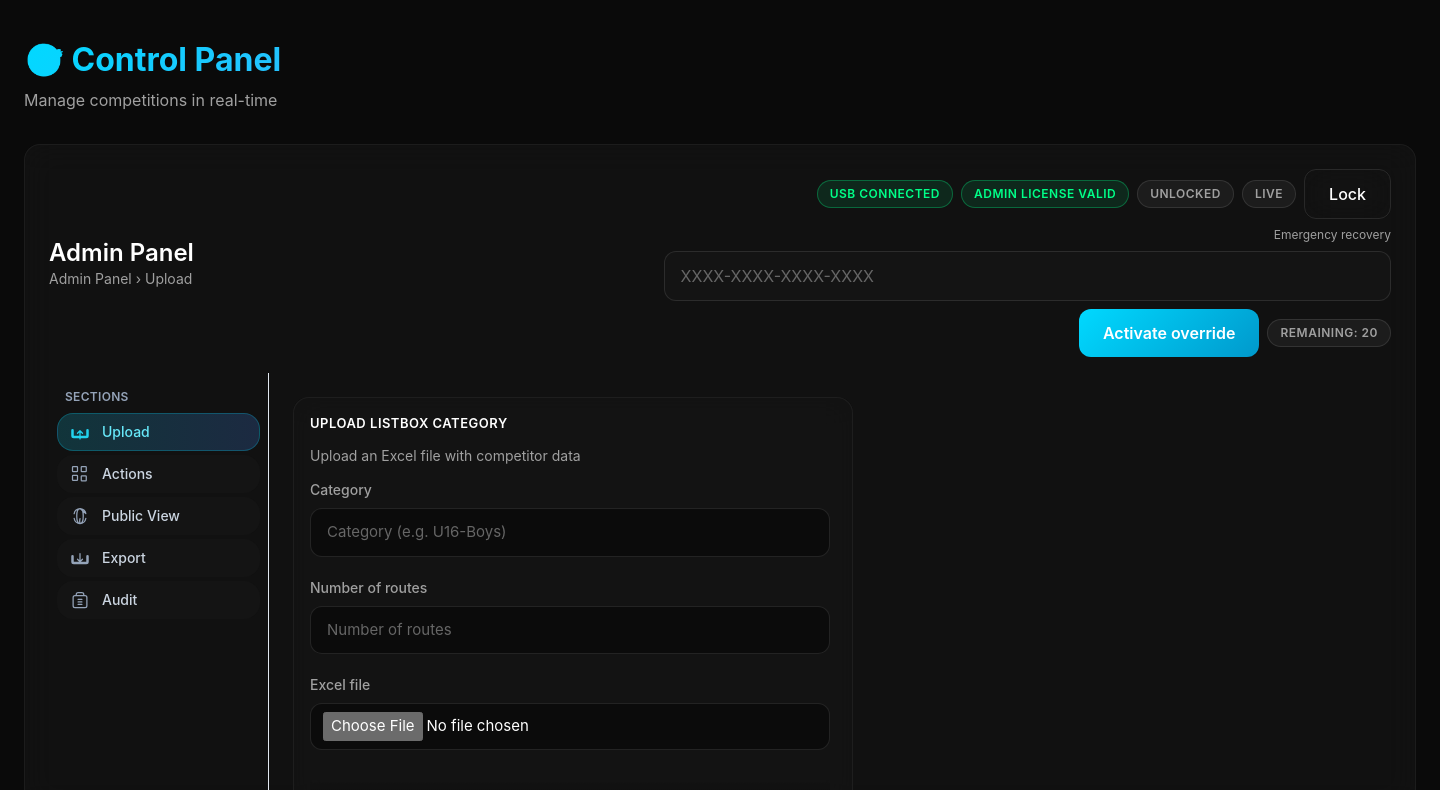
Test: ControlPanel button flows › opens and closes Show Tie-breaks modal with fallback when tie-break snapshot is missing
Click the button "Actions" at coordinates (158, 474), box [57,455,260,493]
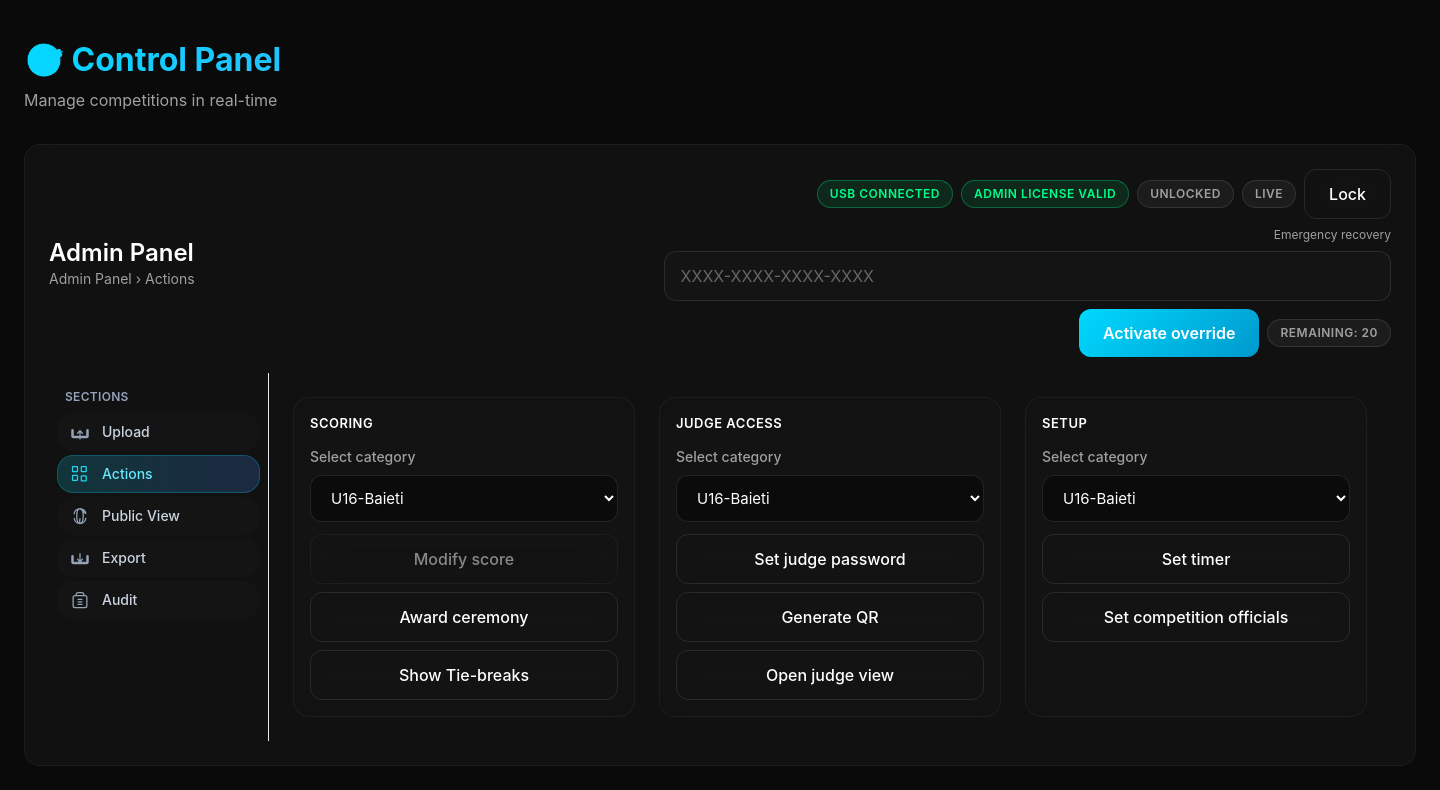
Expected: the button "Show Tie-breaks" is enabled
Click the button "Show Tie-breaks" at coordinates (464, 674), box [310,650,618,700]
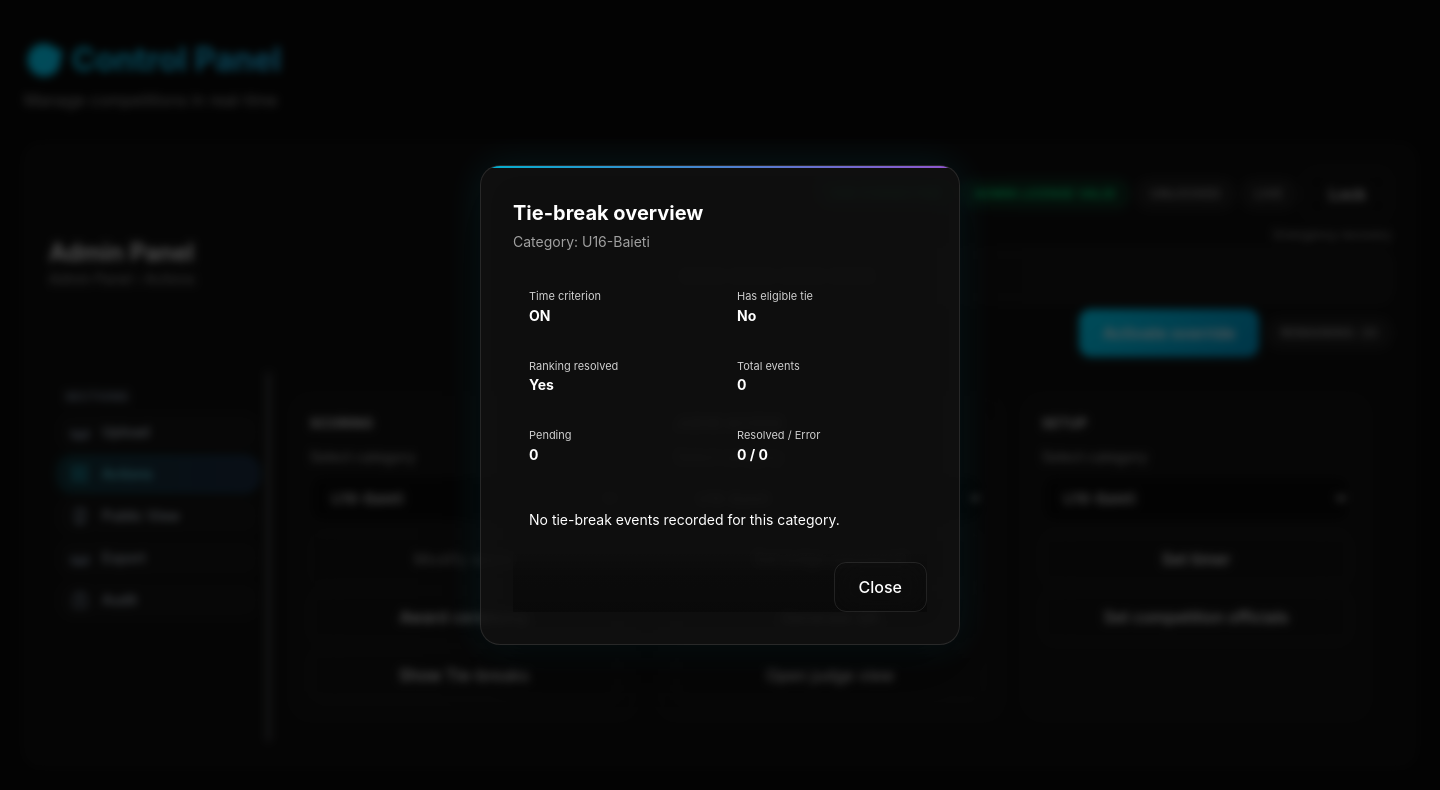
Expected: the text "Tie-break overview" is shown, [513,198,703,228]
Click the button "Close" at coordinates (880, 586), box [834,562,927,612]
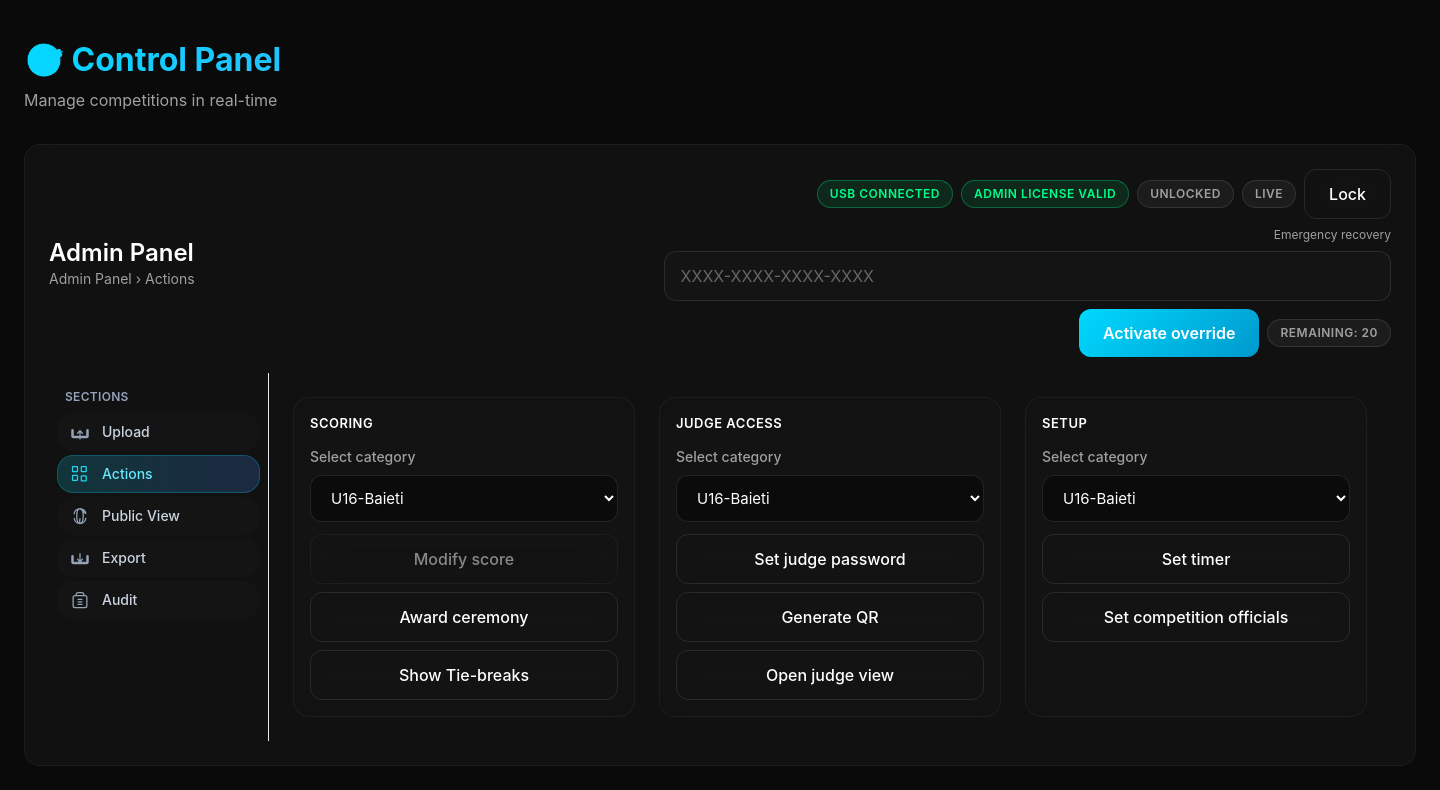
Expected: the text "Tie-break overview" is gone
